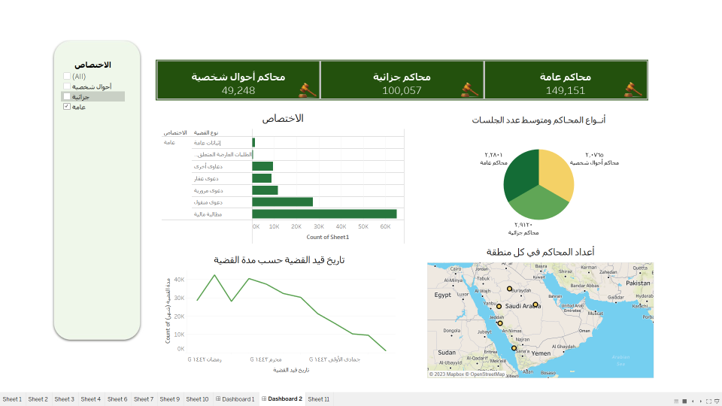

Layout of this report page (visuals, bound fields, positions):
{"tool":"tableau","page":{"name":"Dashboard 1","canvas":[1857,1151],"ordinal":0},"visuals":[{"type":"title","box":[8,8,1841,96]},{"type":"filter","title":"Sheet 4","param":"[federated.1qaidng0n06cem1h5zicy0x8e49s].[none:الاختصاص:nk]","box":[49,24,310,68]},{"type":"image","param":"C:/Users/aljaz/OneDrive/سطح المكتب/مجلد جديد/2361616.png","box":[745,27,103,76]},{"type":"worksheet","title":"Sheet 10","mark":"Automatic","cols":["نوع المحكمة"],"box":[46,123,1771,136]},{"type":"image","param":"C:/Users/aljaz/AppData/Local/Temp/TableauTemp/1pt16g906hc9r31g6jp4i1h2n1nt/Sheet","box":[1143,186,95,73]},{"type":"image","param":"C:/Users/aljaz/OneDrive/سطح المكتب/مجلد جديد/legal-icon-16.png","box":[541,187,95,73]},{"type":"image","param":"C:/Users/aljaz/AppData/Local/Temp/TableauTemp/1pt16g906hc9r31g6jp4i1h2n1nt/Sheet","box":[1733,187,95,73]},{"type":"worksheet","title":"Sheet 4","mark":"Automatic","rows":["الاختصاص","نوع القضية"],"cols":["Sheet1_F45BC1A4014B451D94CFE0476BF6DEC9"],"box":[43,279,878,475]},{"type":"worksheet","title":"Sheet 6","mark":"Pie","box":[998,285,853,450]},{"type":"worksheet","title":"Sheet 2","mark":"Automatic","rows":["مدة القضية (شهر)"],"cols":["تاريخ قيد القضية"],"box":[1002,763,851,384]},{"type":"worksheet","title":"Sheet 7","mark":"Automatic","rows":["Latitude"],"cols":["Longitude"],"box":[8,765,923,386]}]}

Visuals, with their boxes on the page's 1857x1151 design canvas (x1, y1, x2, y2). These are canvas units, not pixel positions in the 722x406 screenshot, which may show the page scaled, cropped or inside an application window:
title: (x1=8, y1=8, x2=1849, y2=104)
"Sheet 4" filter: (x1=49, y1=24, x2=359, y2=92)
image: (x1=745, y1=27, x2=848, y2=103)
"Sheet 10" worksheet: (x1=46, y1=123, x2=1817, y2=259)
image: (x1=1143, y1=186, x2=1238, y2=259)
image: (x1=541, y1=187, x2=636, y2=260)
image: (x1=1733, y1=187, x2=1828, y2=260)
"Sheet 4" worksheet: (x1=43, y1=279, x2=921, y2=754)
"Sheet 6" worksheet (Pie marks): (x1=998, y1=285, x2=1851, y2=735)
"Sheet 2" worksheet: (x1=1002, y1=763, x2=1853, y2=1147)
"Sheet 7" worksheet: (x1=8, y1=765, x2=931, y2=1151)
